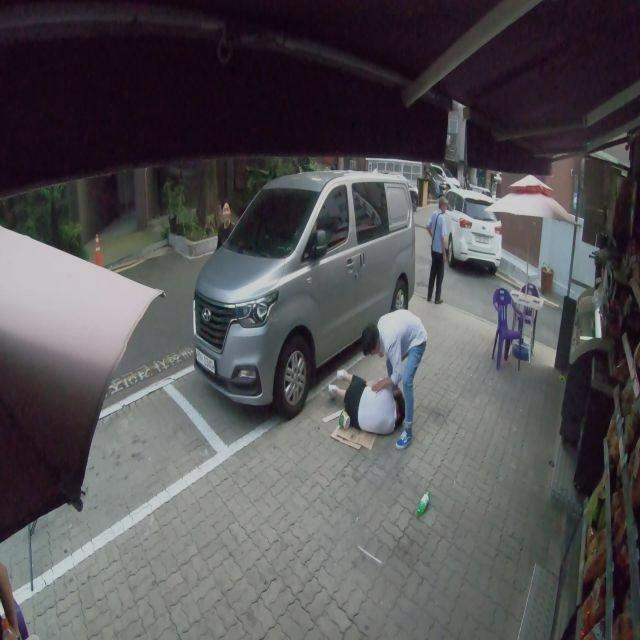fight: (332, 307, 430, 454)
non-fight: (426, 198, 450, 304)
